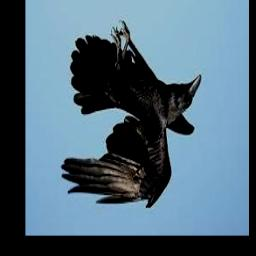Crow: (60, 20, 200, 210)
